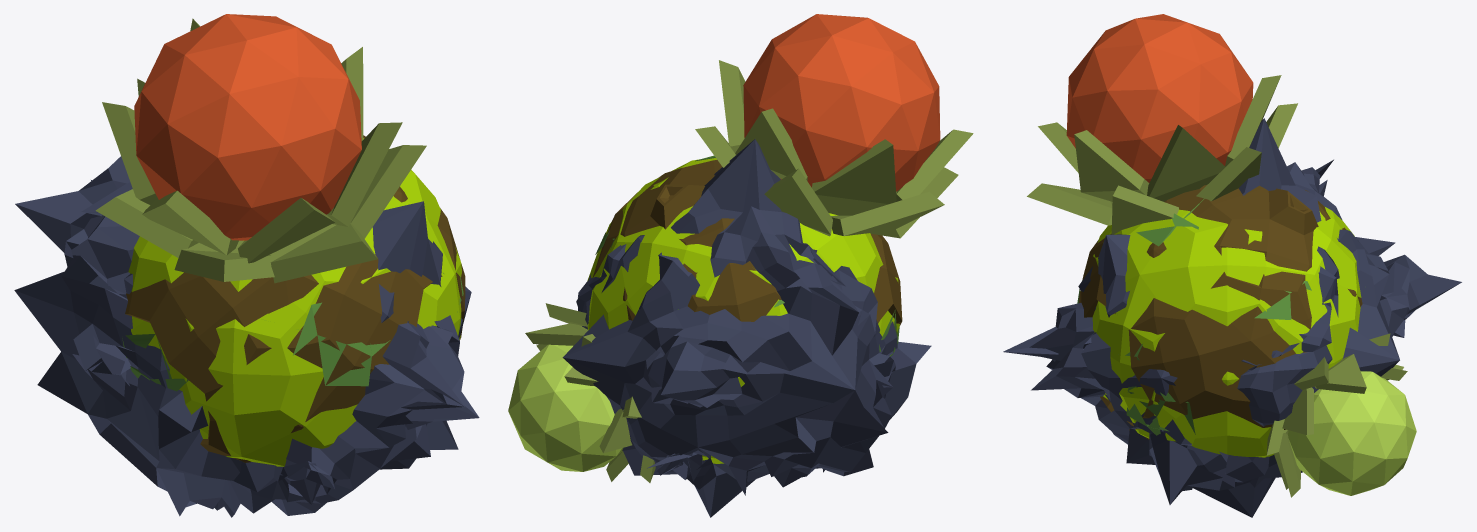
The picture shows the model from 3 angles, left to right: view 1: azimuth 30°, elevation 25°; view 2: azimuth 150°, elevation 25°; view 3: azimuth 270°, elevation 25°; orthographic projection. The views are drawn at different scales.
Parts seen in each view (by area): view 1: Cube.001, Icosphere.001, Cube.003, Cube.002, Icosphere.013, Icosphere, Icosphere.007, Icosphere.004, Icosphere.005, Icosphere.012, Icosphere.010, Icosphere.011 (+2 smaller); view 2: Cube.001, Icosphere.001, Cube.003, Cube.002, Icosphere.027, Icosphere.003, Icosphere.011, Icosphere.008, Icosphere.002, Icosphere.005, Icosphere.006, Icosphere.033 (+4 smaller); view 3: Cube.001, Cube.003, Cube.002, Icosphere.001, Icosphere.027, Icosphere.006, Icosphere.007, Icosphere, Icosphere.012, Icosphere.013, Icosphere.009, Icosphere.002 (+6 smaller).
Part boxes in pixels (left/top/right/bottom): Cube.001: left=14, top=156, right=479, bottom=517; Icosphere.001: left=134, top=14, right=361, bottom=240; Cube.003: left=128, top=138, right=461, bottom=466; Cube.002: left=125, top=135, right=465, bottom=462; Icosphere.013: left=270, top=223, right=377, bottom=283; Icosphere: left=122, top=273, right=463, bottom=391; Icosphere.007: left=326, top=122, right=402, bottom=226; Icosphere.004: left=238, top=198, right=334, bottom=263; Icosphere.005: left=142, top=190, right=238, bottom=255; Icosphere.012: left=351, top=145, right=426, bottom=238; Icosphere.010: left=174, top=240, right=274, bottom=281; Icosphere.011: left=95, top=189, right=198, bottom=257; Cube.001: left=562, top=139, right=931, bottom=517; Icosphere.001: left=743, top=14, right=940, bottom=191; Cube.003: left=587, top=158, right=899, bottom=463; Cube.002: left=592, top=160, right=902, bottom=325; Icosphere.027: left=508, top=344, right=623, bottom=471; Icosphere.003: left=812, top=139, right=896, bottom=215; Icosphere.011: left=831, top=192, right=944, bottom=235; Icosphere.008: left=764, top=168, right=832, bottom=236; Icosphere.002: left=735, top=108, right=807, bottom=180; Icosphere.005: left=896, top=129, right=973, bottom=201; Icosphere.006: left=719, top=60, right=745, bottom=152; Icosphere.033: left=525, top=323, right=587, bottom=345; Cube.001: left=1003, top=118, right=1461, bottom=517; Cube.003: left=1092, top=207, right=1361, bottom=457; Cube.002: left=1079, top=185, right=1362, bottom=439; Icosphere.001: left=1066, top=14, right=1253, bottom=182; Icosphere.027: left=1288, top=371, right=1416, bottom=495; Icosphere.006: left=1147, top=125, right=1225, bottom=201; Icosphere.007: left=1074, top=130, right=1149, bottom=201; Icosphere: left=1077, top=198, right=1347, bottom=435; Icosphere.012: left=1111, top=185, right=1178, bottom=234; Icosphere.013: left=1027, top=183, right=1112, bottom=225; Icosphere.009: left=1196, top=147, right=1261, bottom=201; Icosphere.002: left=1225, top=75, right=1281, bottom=166.
Bounding box in the file's own units: 0.6663 × 0.8822 × 0.8087.
